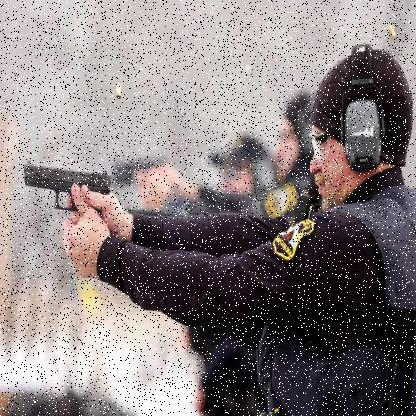pistol: (21, 152, 119, 238)
